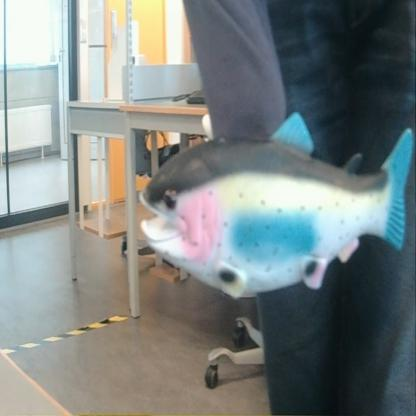rubberfish: (136, 102, 416, 306)
